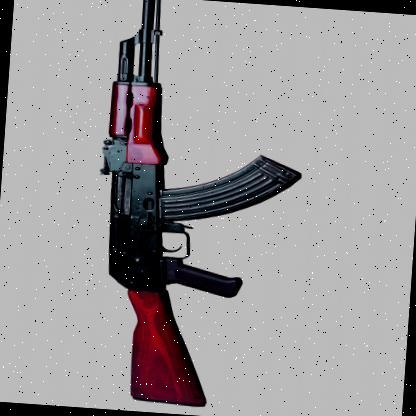rifle: (49, 0, 318, 410)
